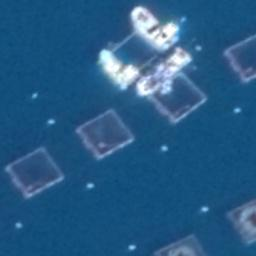square_cover: (144, 68, 211, 126), (5, 145, 68, 203), (72, 106, 138, 161), (224, 192, 256, 250), (223, 29, 256, 84), (144, 234, 213, 256)
